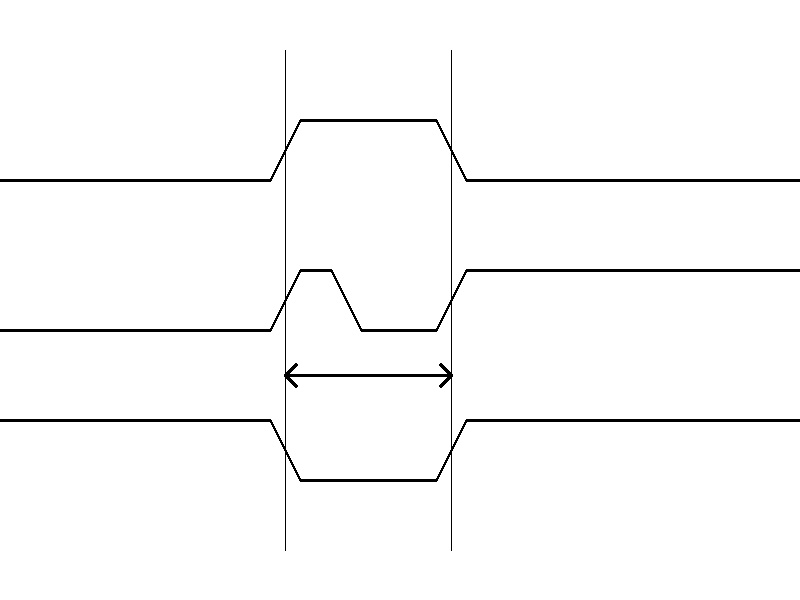double_arrow: (285, 360, 451, 390)
